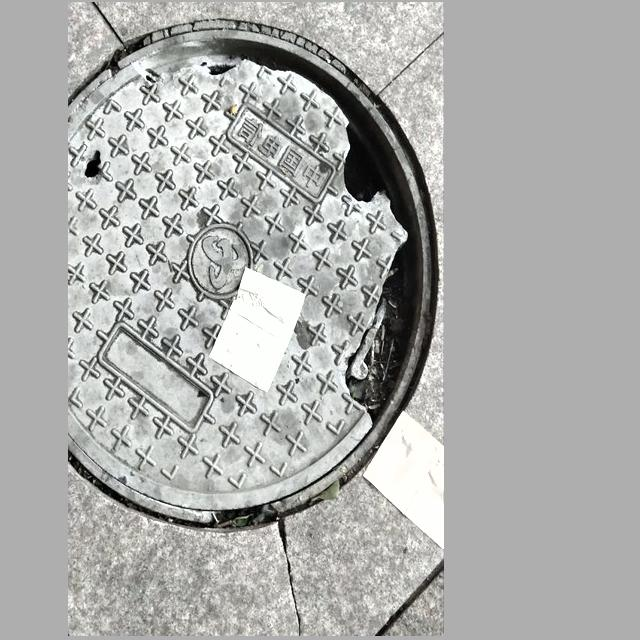broke: (73, 15, 436, 535)
